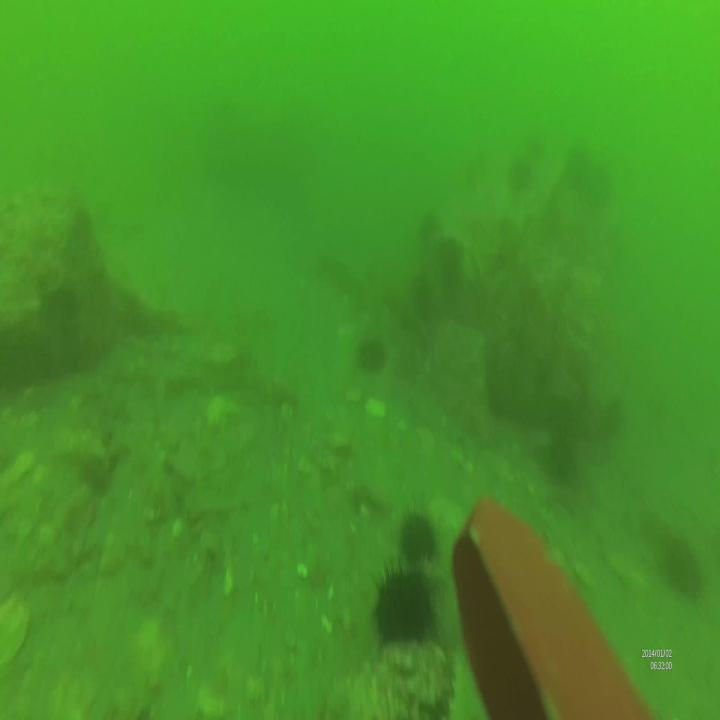echinus: (372, 559, 433, 642), (665, 534, 705, 603), (396, 500, 435, 560), (547, 423, 580, 482), (357, 334, 388, 376)
